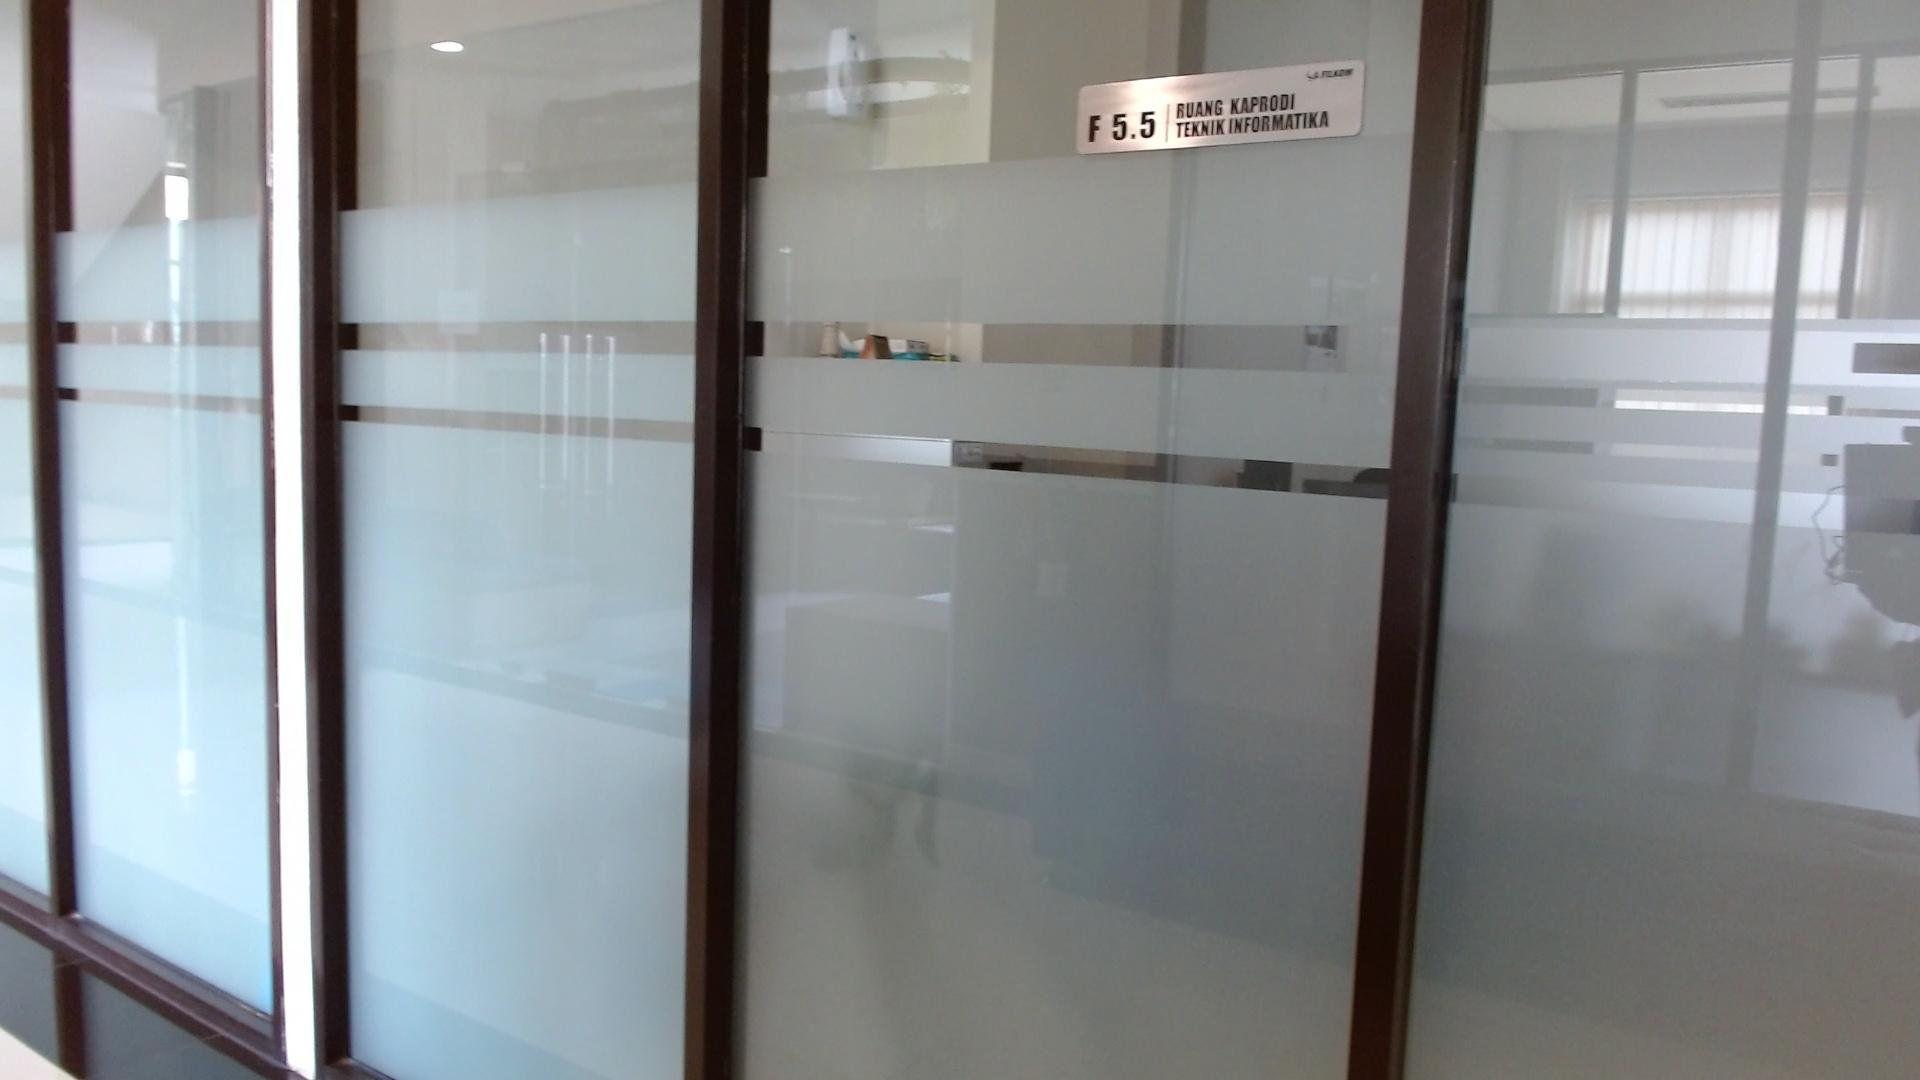plate: (1075, 58, 1367, 154)
